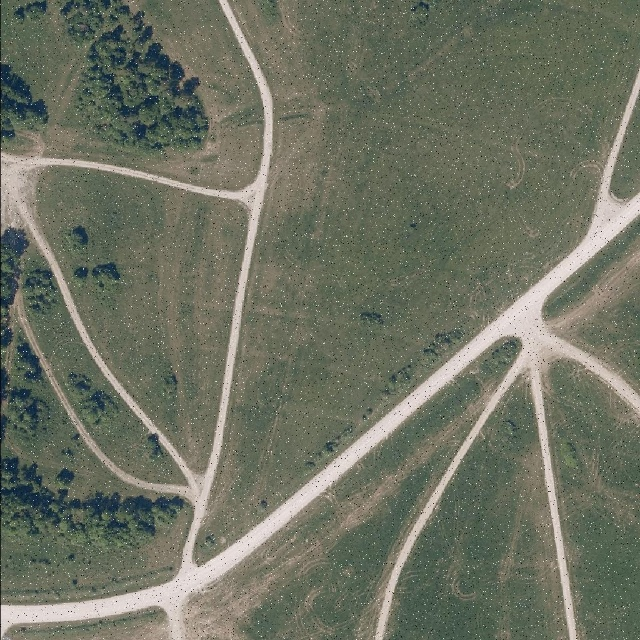vegetation: (10, 0, 202, 150), (0, 458, 176, 552), (0, 340, 54, 440), (65, 224, 119, 297), (0, 231, 27, 360), (0, 74, 46, 143), (66, 371, 117, 429), (25, 268, 59, 320), (139, 432, 165, 459), (160, 371, 177, 396)
